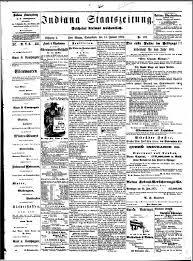Printing industry: (1, 5, 193, 261)
